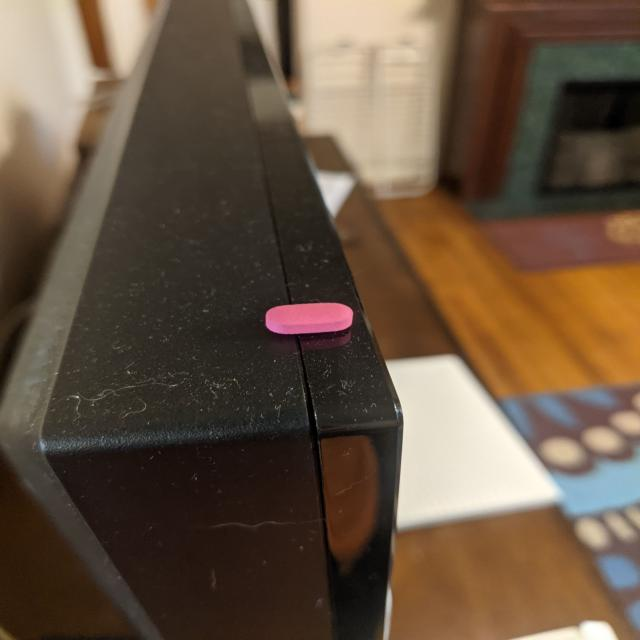non-organic waste: (265, 302, 354, 335)
